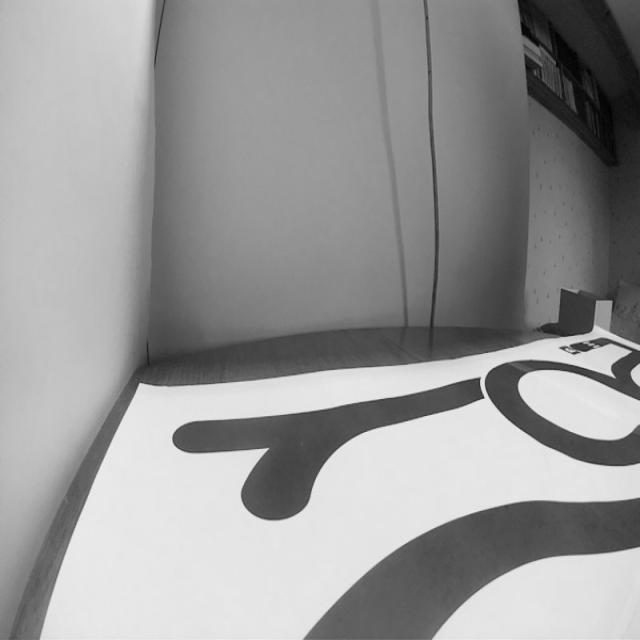laneRightTurn: (290, 483, 528, 640)
